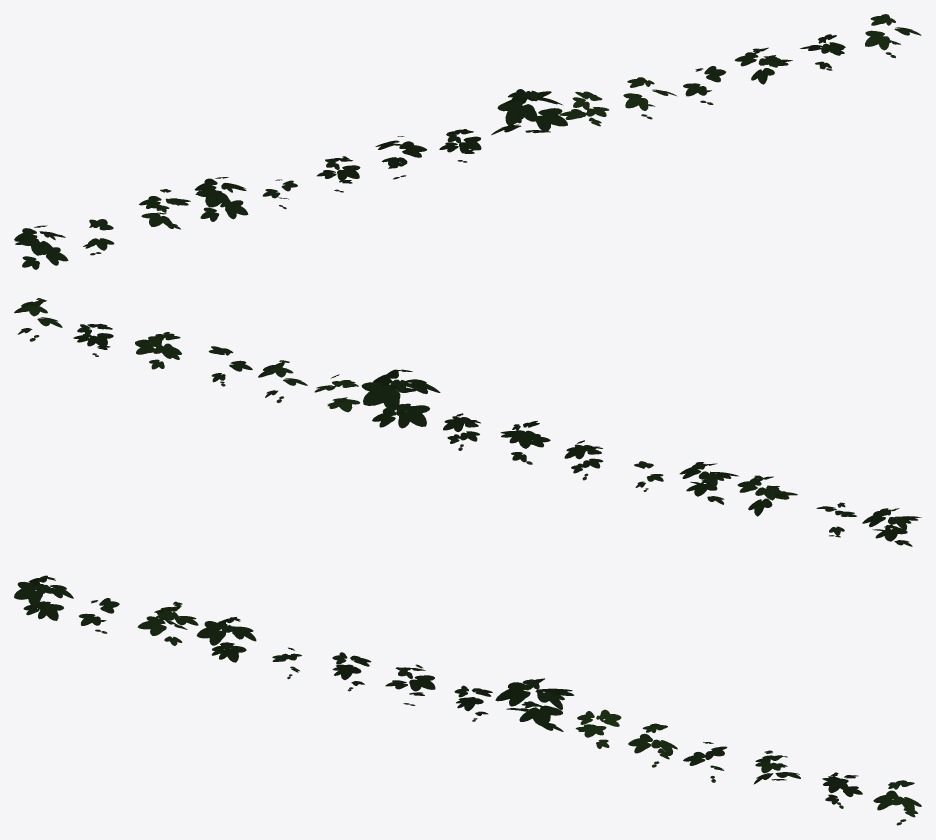
The model's file is ROW_10_SEG3_foliage.dae.
The picture shows the model from 3 angles, top to bottom: view 1: azimuth 30°, elevation 25°; view 2: azimuth 150°, elevation 25°; view 3: azimuth 330°, elevation 25°; orthographic projection.
Visible parts, largest first — view 1: ROW_10_SEG3_foliage; view 2: ROW_10_SEG3_foliage; view 3: ROW_10_SEG3_foliage.
Part boxes in pixels (x1,y1,x2,y2): ROW_10_SEG3_foliage: (14, 14, 921, 269); ROW_10_SEG3_foliage: (14, 298, 921, 546); ROW_10_SEG3_foliage: (14, 575, 921, 825).
Size of the model in its own units: 4.5 by 0.3199 by 0.2821.
